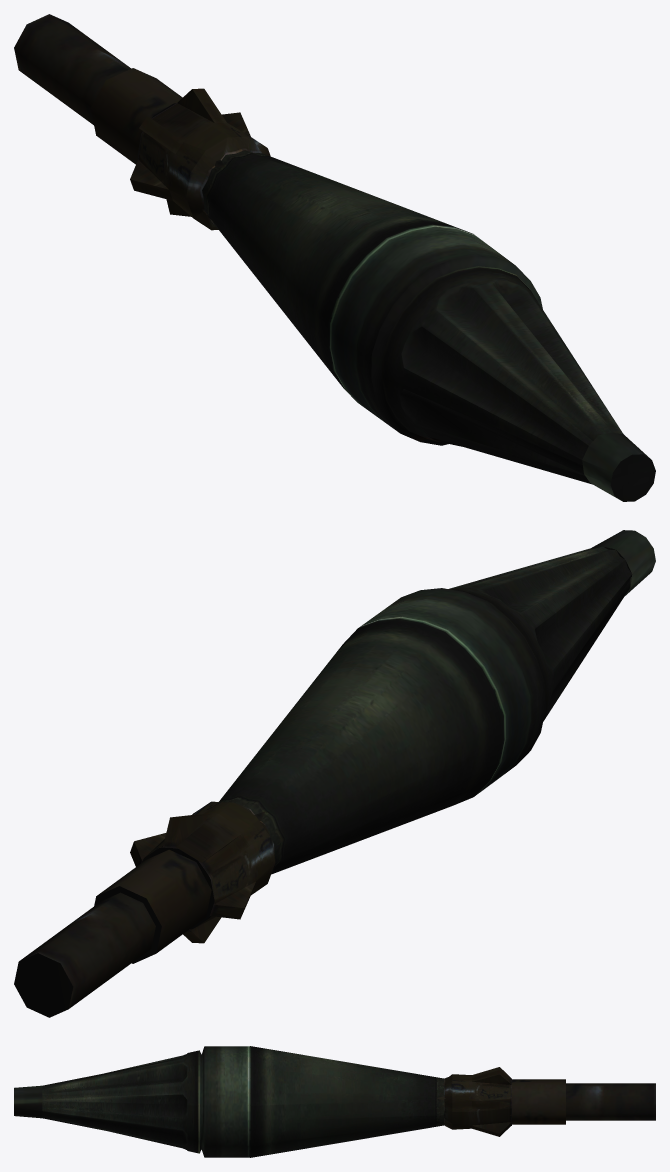
The model's file is Rocket.fbx.
3 renders of one model, top to bottom at view 1: azimuth 30°, elevation 25°; view 2: azimuth 150°, elevation 25°; view 3: azimuth 270°, elevation 25°, orthographic. The views are drawn at different scales.
Visible parts, largest first — view 1: Rocket; view 2: Rocket; view 3: Rocket.
Boxes of the visible parts, bbox=[...] form: Rocket: bbox=[14, 14, 655, 501]; Rocket: bbox=[14, 530, 655, 1017]; Rocket: bbox=[14, 1046, 655, 1157].
Size of the model in its own units: 10.72 by 10.75 by 62.61.
1 material, 1 textured.
